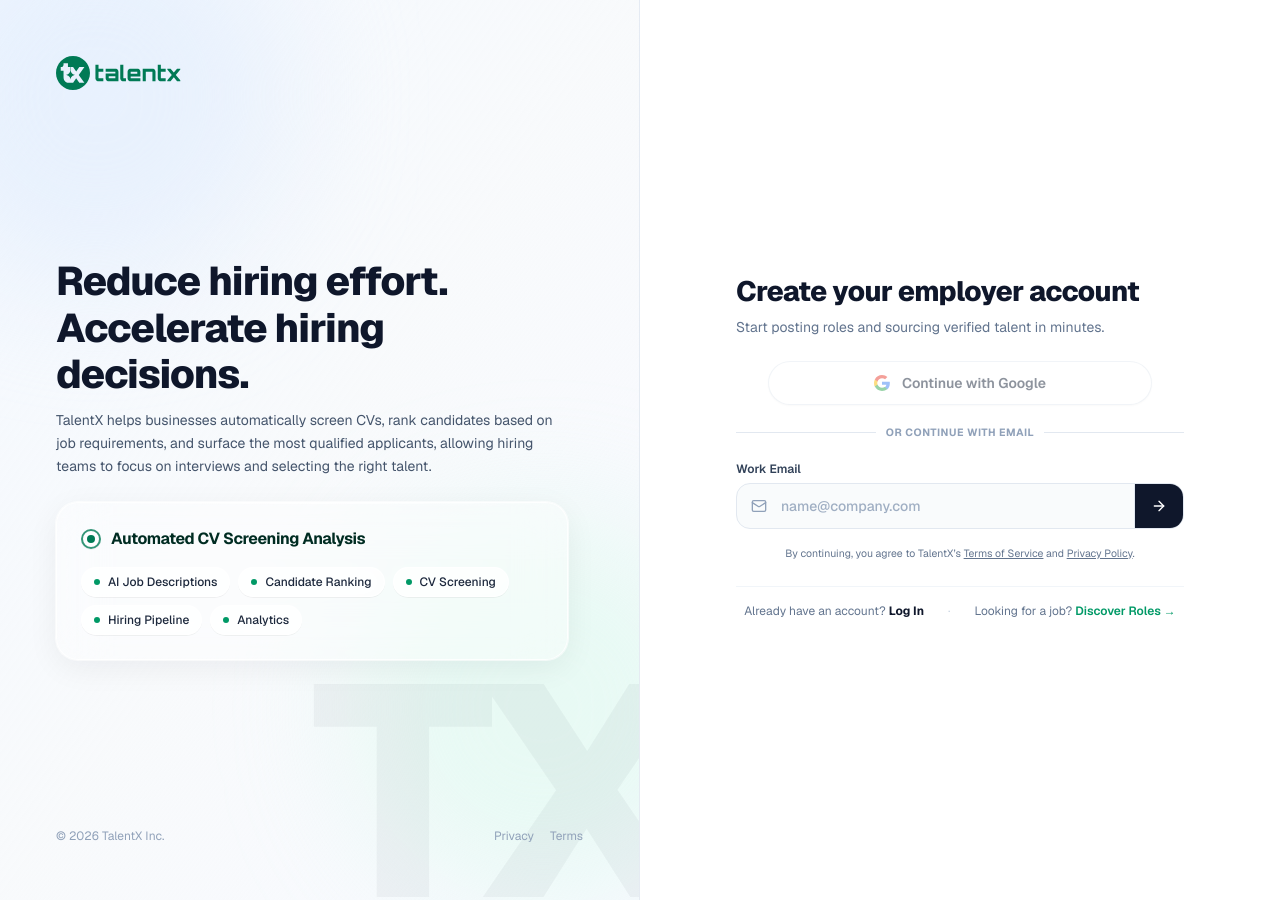
Test: Employer Signup Page (TX26-191) › shows validation error when submitting an empty email
The width and height of the screenshot is (1280, 900).
Click the button named "Submit work email": (1158, 506) 1134,484 -> 1183,528
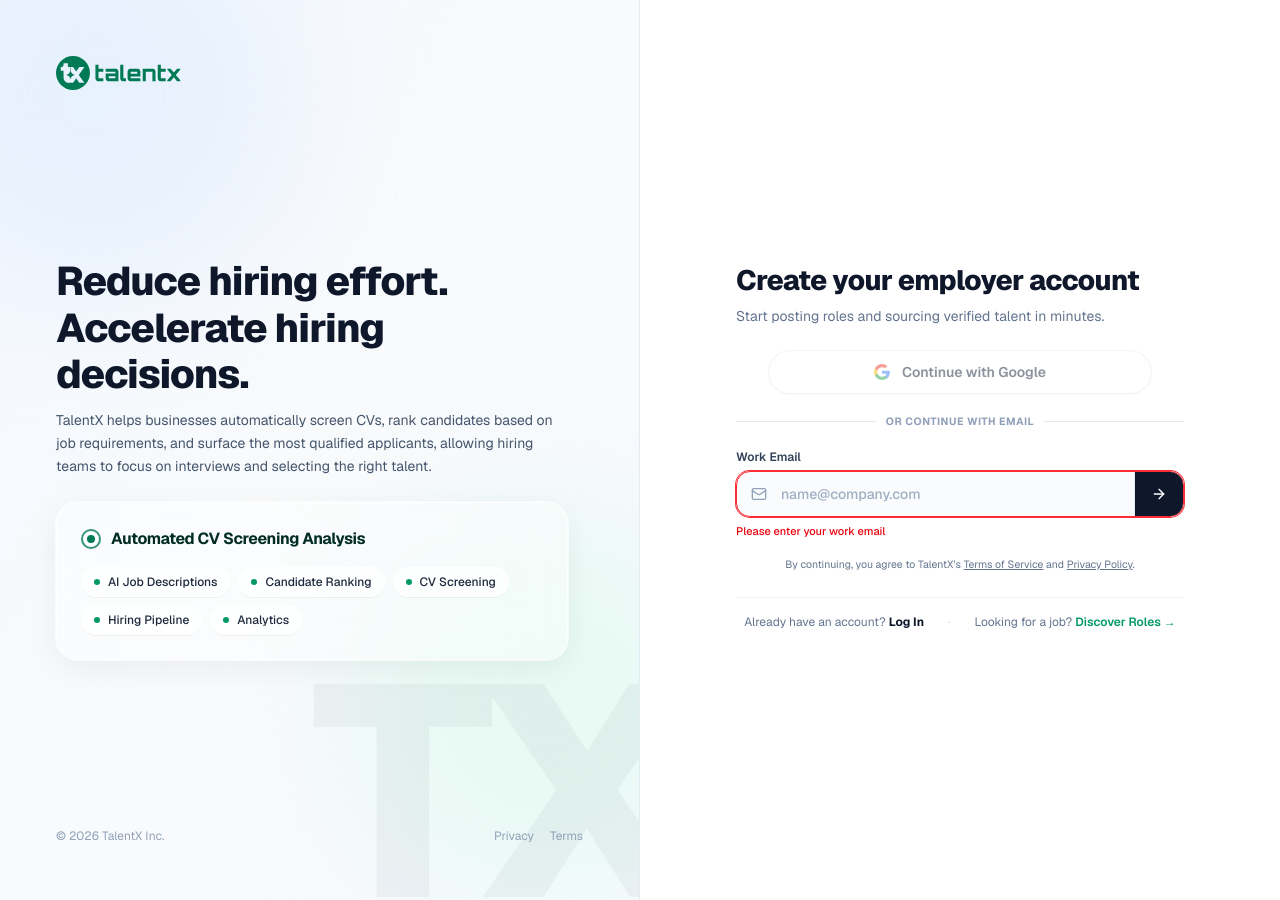
expect the text "Please enter your work email" is shown: met, box 736,524 -> 885,538
